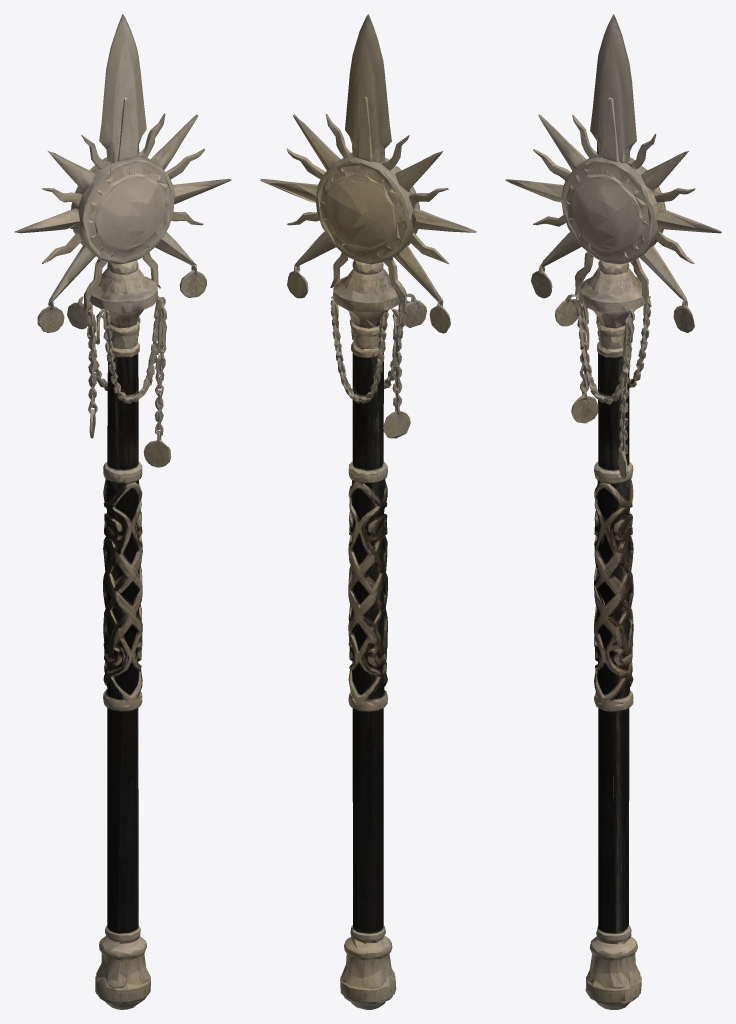
Rendered from weapon.glb.
3 views of the same model, side by side, from view 1: azimuth 30°, elevation 25°; view 2: azimuth 150°, elevation 25°; view 3: azimuth 330°, elevation 25° (orthographic).
Visible parts, largest first — view 1: mesh_node; view 2: mesh_node; view 3: mesh_node.
Part boxes in pixels (x1=…): mesh_node: x1=14, y1=14, x2=231, y2=1009; mesh_node: x1=260, y1=14, x2=476, y2=1009; mesh_node: x1=505, y1=14, x2=721, y2=1009.
Bounding box in the file's own units: 0.4332 × 1.9 × 0.123.
Materials: 1 (1 with a texture image).
